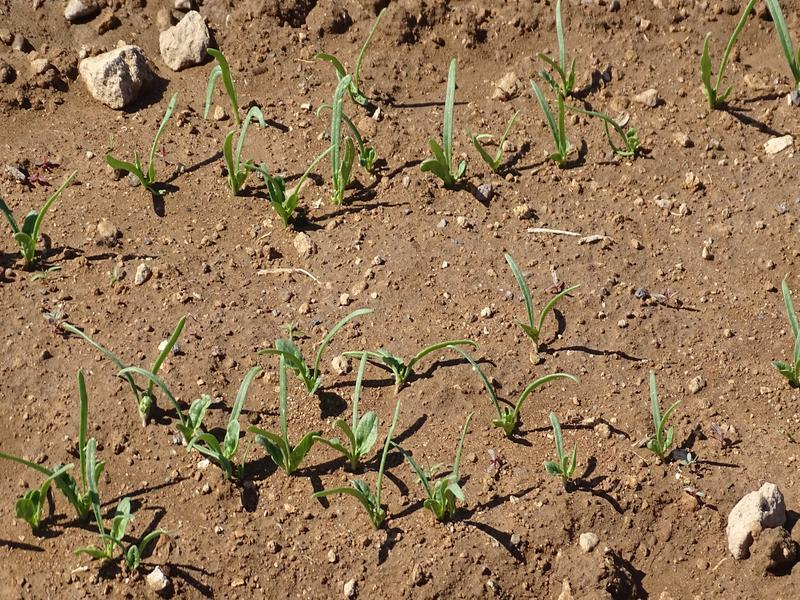Espinaca: (48, 313, 598, 556), (124, 30, 475, 210), (492, 13, 648, 163), (697, 9, 800, 94), (1, 165, 82, 261), (635, 375, 678, 461), (771, 282, 799, 389)
